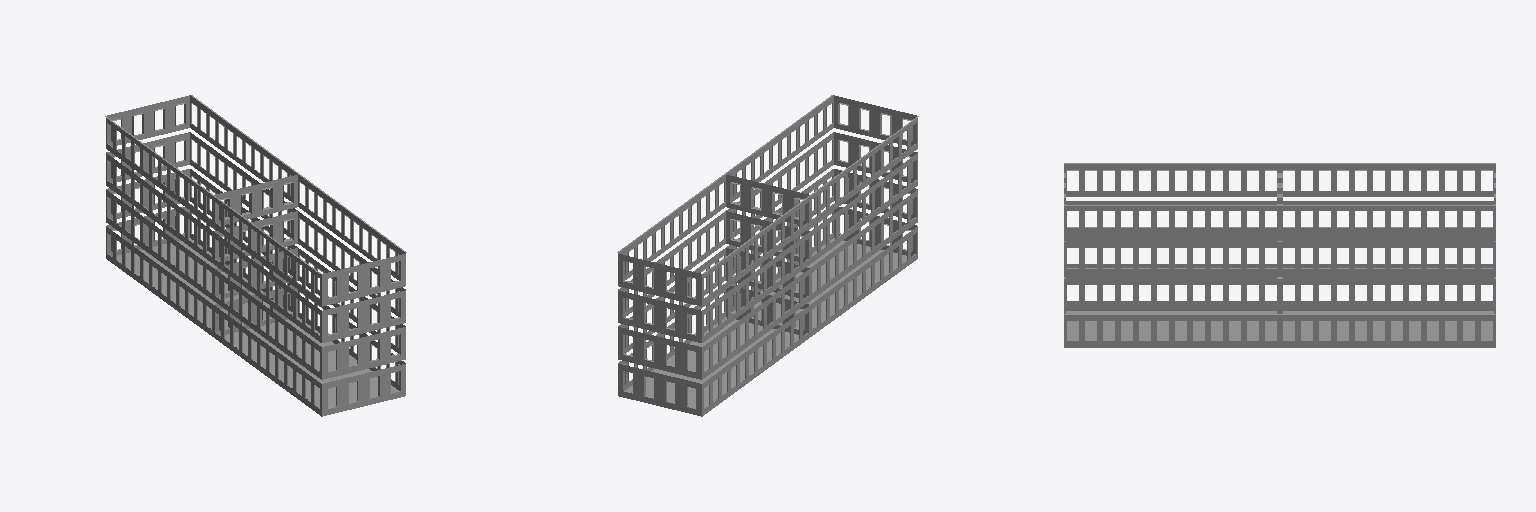
The model's file is cihly.obj.
The picture shows the model from 3 angles: view 1: azimuth 30°, elevation 25°; view 2: azimuth 150°, elevation 25°; view 3: azimuth 270°, elevation 25°; orthographic projection.
Parts seen in each view (by area): view 1: building5_cihly_Cube.105; view 2: building5_cihly_Cube.105; view 3: building5_cihly_Cube.105.
Boxes of the visible parts, x1,y1,x2,y2 form: building5_cihly_Cube.105: [105, 95, 406, 416]; building5_cihly_Cube.105: [617, 95, 918, 416]; building5_cihly_Cube.105: [1064, 163, 1495, 347].
Size of the model in its own units: 10.48 by 16.33 by 44.86.